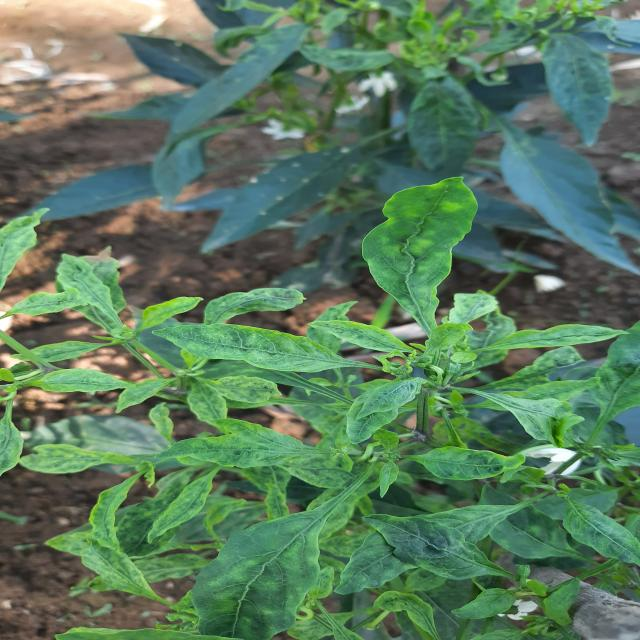thrips: (360, 170, 482, 326), (202, 510, 327, 638), (151, 317, 351, 377), (193, 284, 314, 324), (410, 446, 538, 481), (478, 325, 636, 353)
